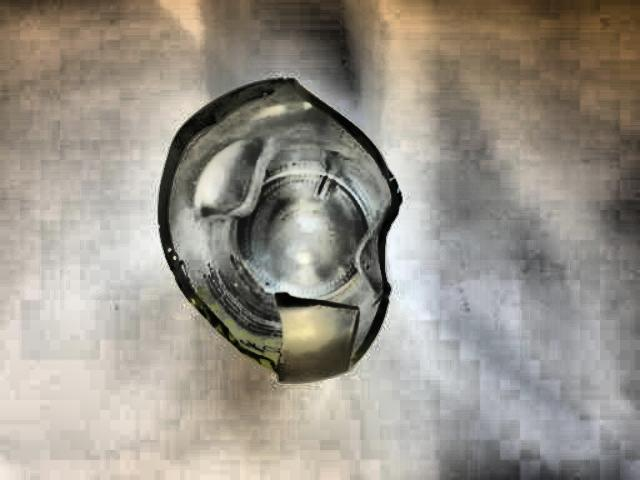Almennt: (144, 70, 413, 394)
